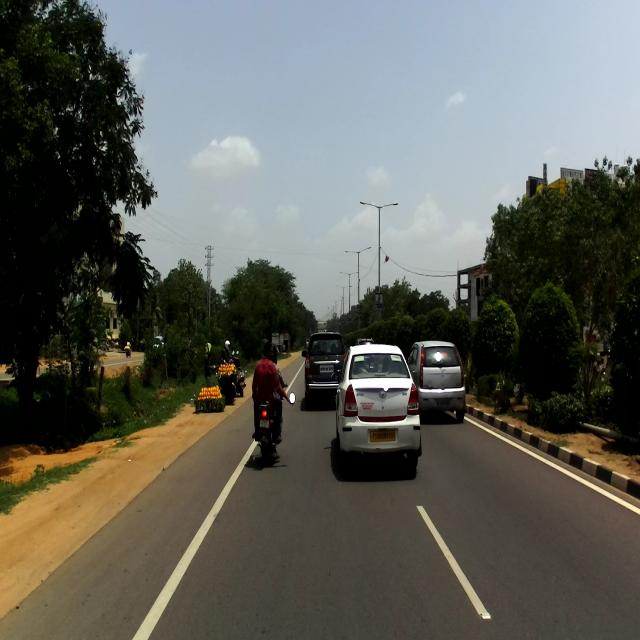car: (331, 344, 423, 470), (406, 340, 467, 423), (301, 330, 347, 406)
motorcycle: (254, 382, 288, 462)
